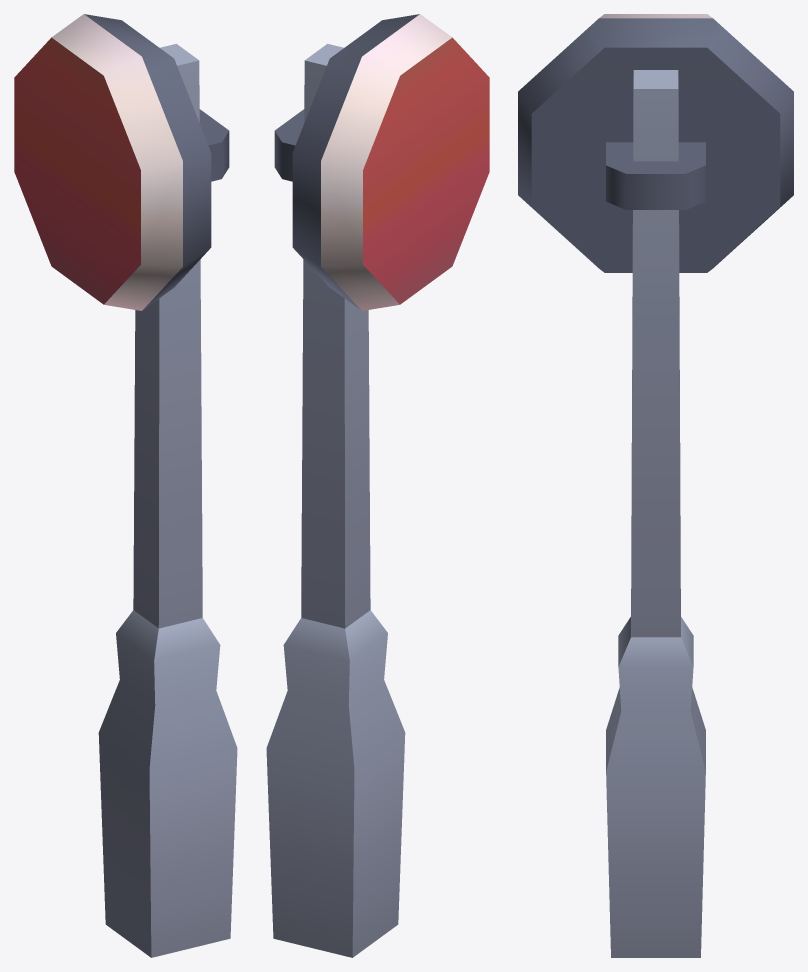
The model's file is road_road_sign_stop.glb.
3 views of the same model, side by side, from view 1: azimuth 30°, elevation 25°; view 2: azimuth 150°, elevation 25°; view 3: azimuth 270°, elevation 25° (orthographic).
Parts seen in each view (by area): view 1: road-sign-stop; view 2: road-sign-stop; view 3: road-sign-stop.
Boxes of the visible parts, x1,y1,x2,y2 form: road-sign-stop: (14, 14, 237, 957); road-sign-stop: (266, 14, 489, 957); road-sign-stop: (518, 14, 793, 957).
Bounding box in the file's own units: 0.0775 × 0.4941 × 0.1382.
1 material, 1 textured.
